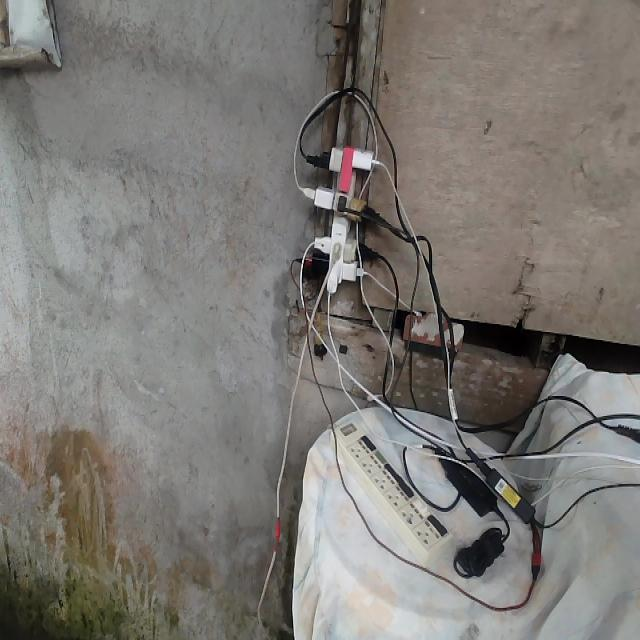-: (298, 140, 385, 296)
